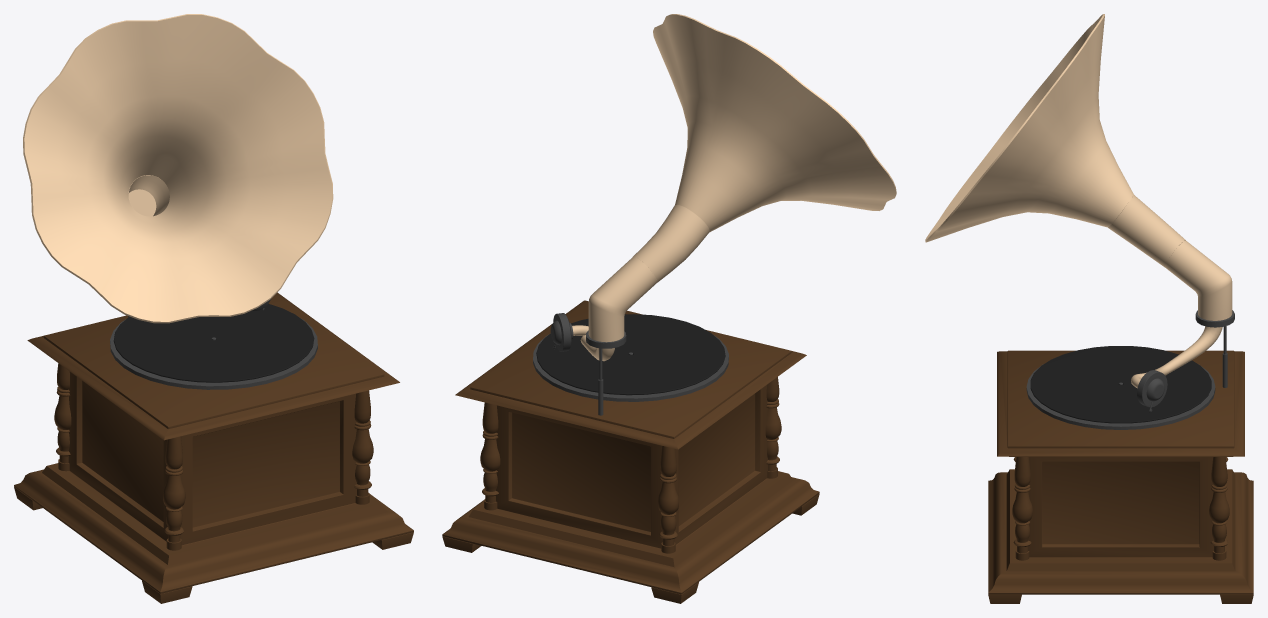
The model's file is gramophone.fbx.
3 views of the same model, side by side, from view 1: azimuth 30°, elevation 25°; view 2: azimuth 150°, elevation 25°; view 3: azimuth 270°, elevation 25° (orthographic). The views are drawn at different scales.
Parts seen in each view (by area): view 1: horn, wooden base, record, record platform, horn base; view 2: wooden base, horn, record, horn base, record platform, sound box, horn mount; view 3: wooden base, horn, record, horn base, record platform, tone arm, sound box, horn mount.
Part boxes in pixels (x1,y1,x2,y2): horn: [23, 14, 333, 323]; wooden base: [14, 292, 413, 603]; record: [113, 304, 314, 382]; record platform: [110, 318, 317, 389]; horn base: [128, 175, 169, 216]; wooden base: [442, 300, 819, 603]; horn: [653, 14, 896, 232]; record: [536, 314, 725, 395]; horn base: [588, 204, 709, 342]; record platform: [533, 334, 728, 401]; sound box: [550, 313, 573, 351]; horn mount: [586, 330, 626, 415]; wooden base: [988, 350, 1253, 603]; horn: [925, 14, 1133, 242]; record: [1030, 346, 1211, 423]; horn base: [1108, 195, 1232, 320]; record platform: [1026, 364, 1215, 429]; tone arm: [1131, 326, 1222, 388]; sound box: [1137, 370, 1167, 412]; horn mount: [1195, 310, 1234, 387].
Size of the model in its own units: 61.67 by 88.46 by 54.54.
